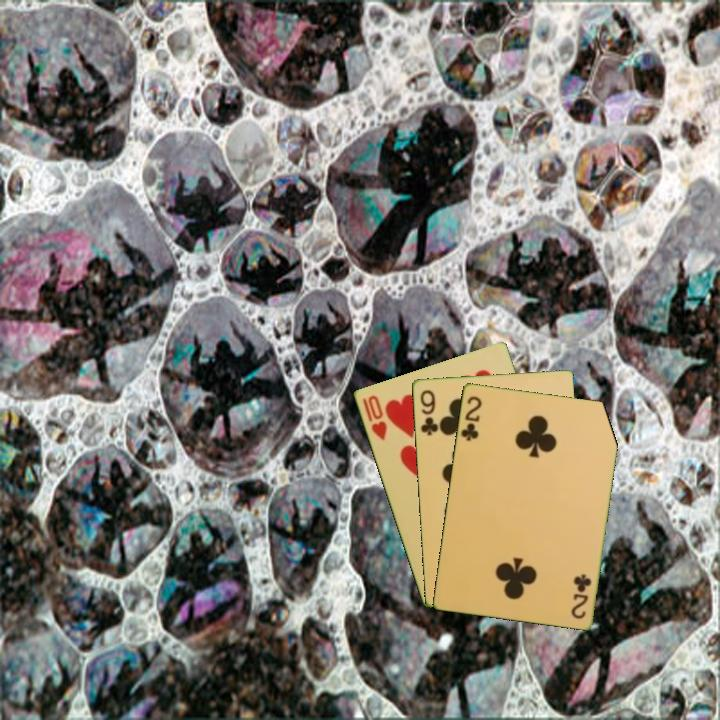10h: (364, 391, 389, 443)
2c: (457, 392, 484, 444), (567, 570, 594, 621)
9c: (417, 386, 440, 438)
